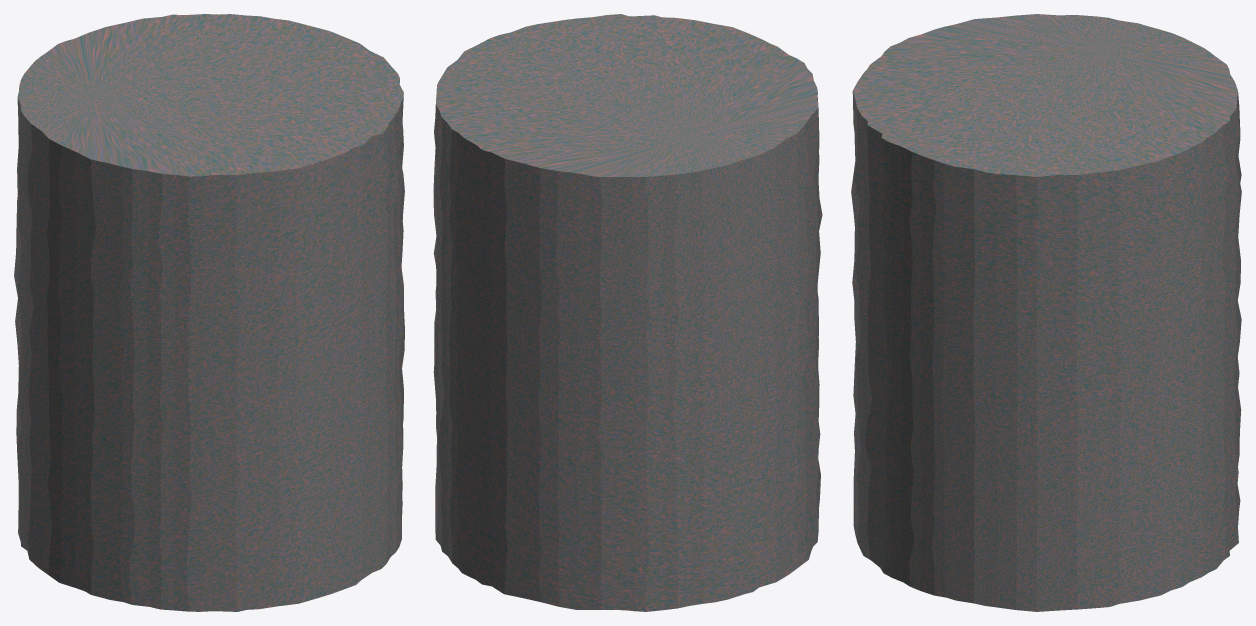
Rendered from barrel_30.dae.
The picture shows the model from 3 angles, left to right: view 1: azimuth 30°, elevation 25°; view 2: azimuth 150°, elevation 25°; view 3: azimuth 270°, elevation 25°; orthographic projection.
Visible parts, largest first — view 1: Cylinder; view 2: Cylinder; view 3: Cylinder.
Boxes of the visible parts, x1,y1,x2,y2 form: Cylinder: (14, 14, 404, 611); Cylinder: (433, 14, 822, 611); Cylinder: (851, 14, 1241, 611).
Size of the model in its own units: 0.8114 by 0.8145 by 1.
1 material, 1 textured.
